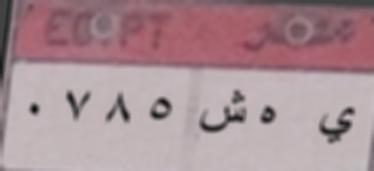0: (22, 95, 46, 129)
5: (147, 91, 176, 125)
7: (64, 83, 95, 131)
8: (100, 80, 134, 132)
haa: (256, 98, 282, 132)
sheen: (200, 88, 248, 144)
yaa: (318, 101, 358, 152)
